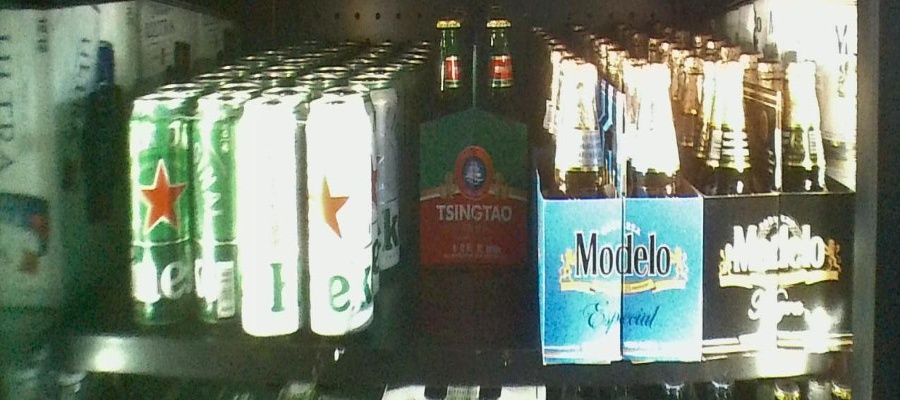bottle: (541, 46, 703, 364), (703, 54, 849, 348), (238, 100, 377, 335), (414, 18, 530, 263), (122, 97, 238, 329)
